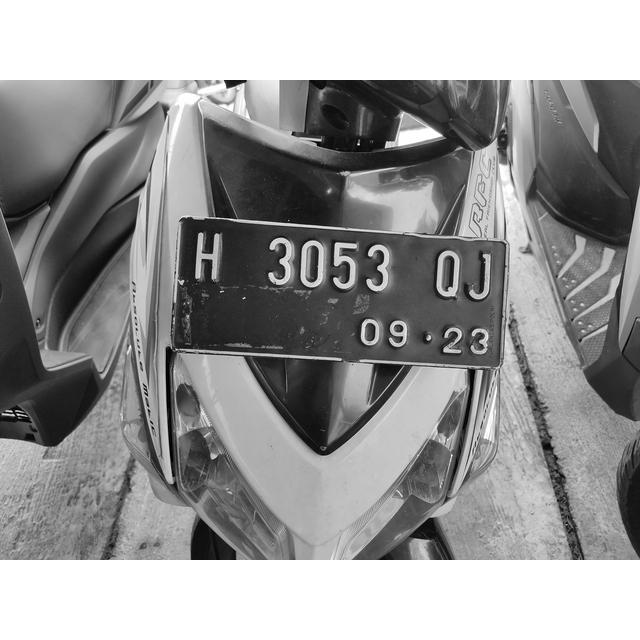license: (188, 227, 497, 360)
